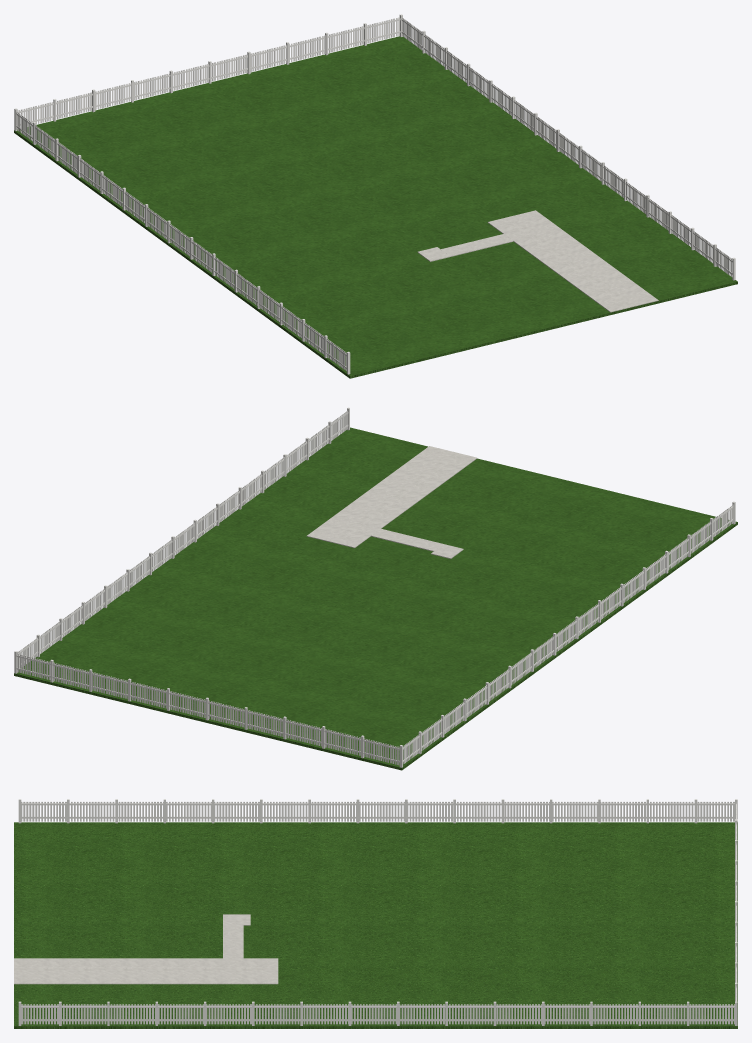
The model's file is bell-lot-v4.glb.
3 views of the same model, one above another, from view 1: azimuth 30°, elevation 25°; view 2: azimuth 150°, elevation 25°; view 3: azimuth 270°, elevation 25° (orthographic). The views are drawn at different scales.
Visible parts, largest first — view 1: Bell continuous lawn, cerca blanca, Bell single garage driveway, Bell porch to garage walkway; view 2: Bell continuous lawn, cerca blanca, Bell single garage driveway, Bell porch to garage walkway; view 3: Bell continuous lawn, cerca blanca, Bell single garage driveway, Bell porch to garage walkway.
Boxes of the visible parts, x1=… form: Bell continuous lawn: x1=14, y1=36, x2=737, y2=378; cerca blanca: x1=14, y1=14, x2=735, y2=374; Bell single garage driveway: x1=487, y1=210, x2=658, y2=312; Bell porch to garage walkway: x1=441, y1=234, x2=513, y2=256; Bell continuous lawn: x1=14, y1=427, x2=737, y2=770; cerca blanca: x1=14, y1=407, x2=735, y2=767; Bell single garage driveway: x1=306, y1=446, x2=477, y2=548; Bell porch to garage walkway: x1=371, y1=528, x2=443, y2=551; Bell continuous lawn: x1=14, y1=822, x2=737, y2=1028; cerca blanca: x1=18, y1=799, x2=737, y2=1025; Bell single garage driveway: x1=14, y1=958, x2=278, y2=984; Bell porch to garage walkway: x1=223, y1=925, x2=243, y2=958.
Size of the model in its own units: 24.38 by 1.45 by 36.58.
Materials: 3 (2 with a texture image).
